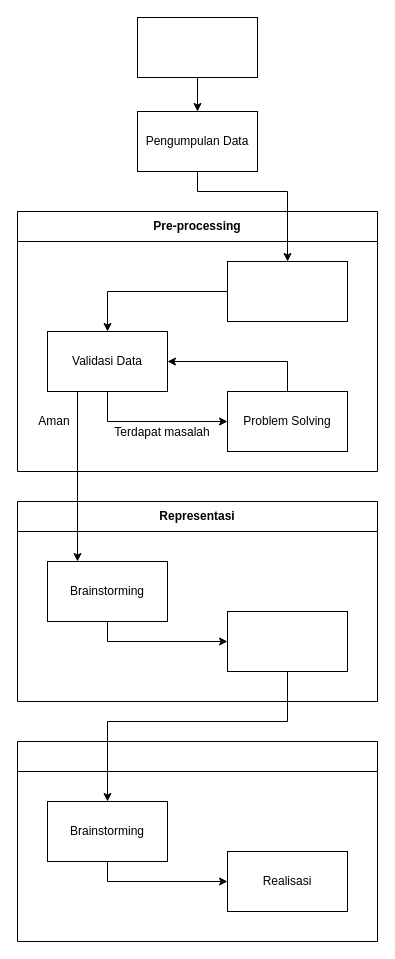
Some shapes in this 395 by 959 pixel diagram are drawn without their labels. Here are the shapes that lost their labels. From the top down, the box of each, then its label:
(136, 16, 258, 78): Mulai
(226, 260, 348, 322): Pemilihan Kolom
(226, 610, 348, 672): Visualisasi
(16, 740, 378, 942): Pembuatan Landing Page
